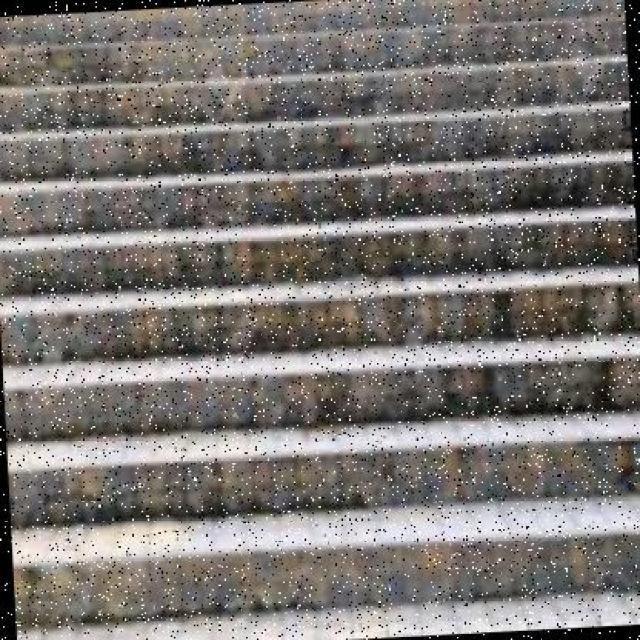Stairs: (19, 23, 635, 614)
